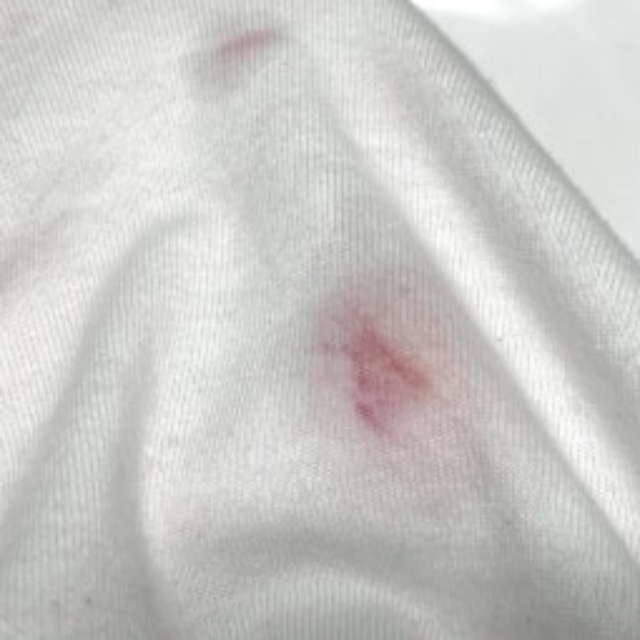lipstick: (296, 290, 469, 460)
